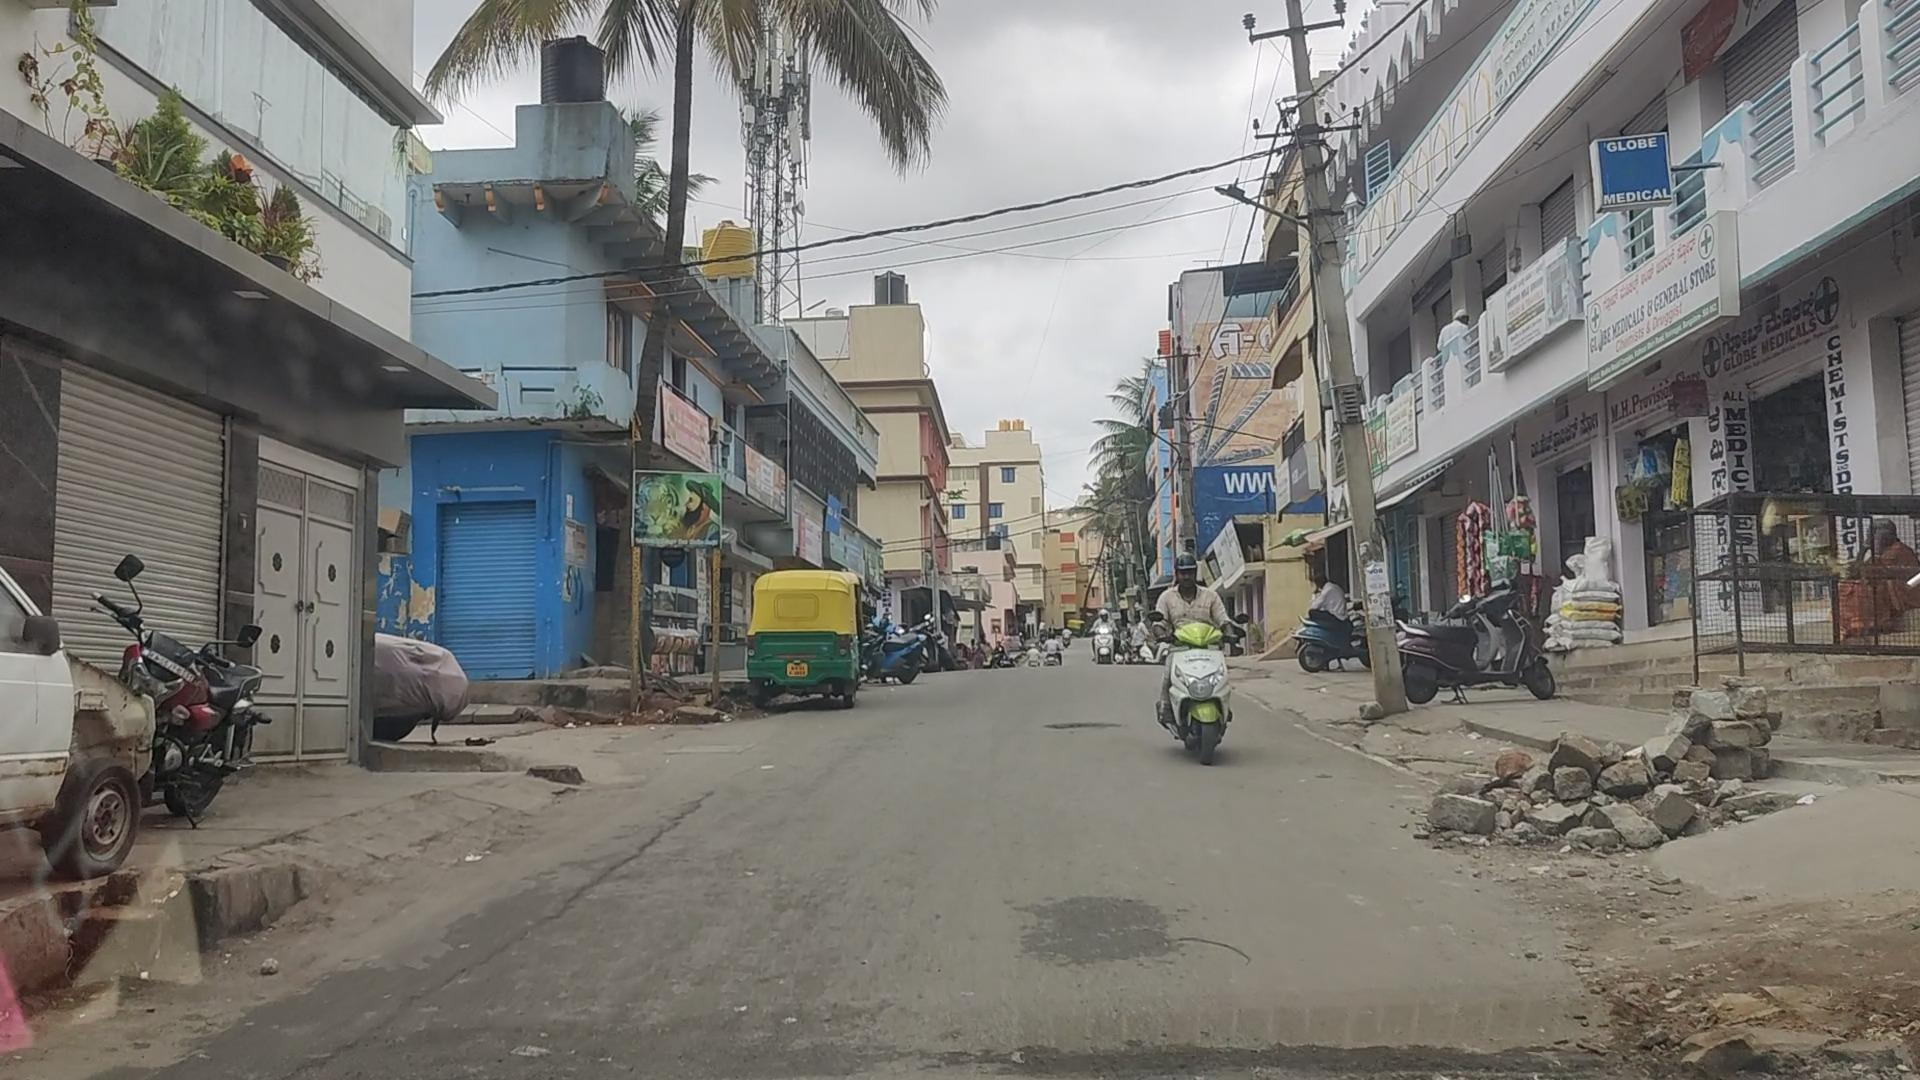LMV: (1147, 554, 1241, 774)
RoadDamages: (1125, 923, 1270, 1002), (1042, 715, 1126, 749)
